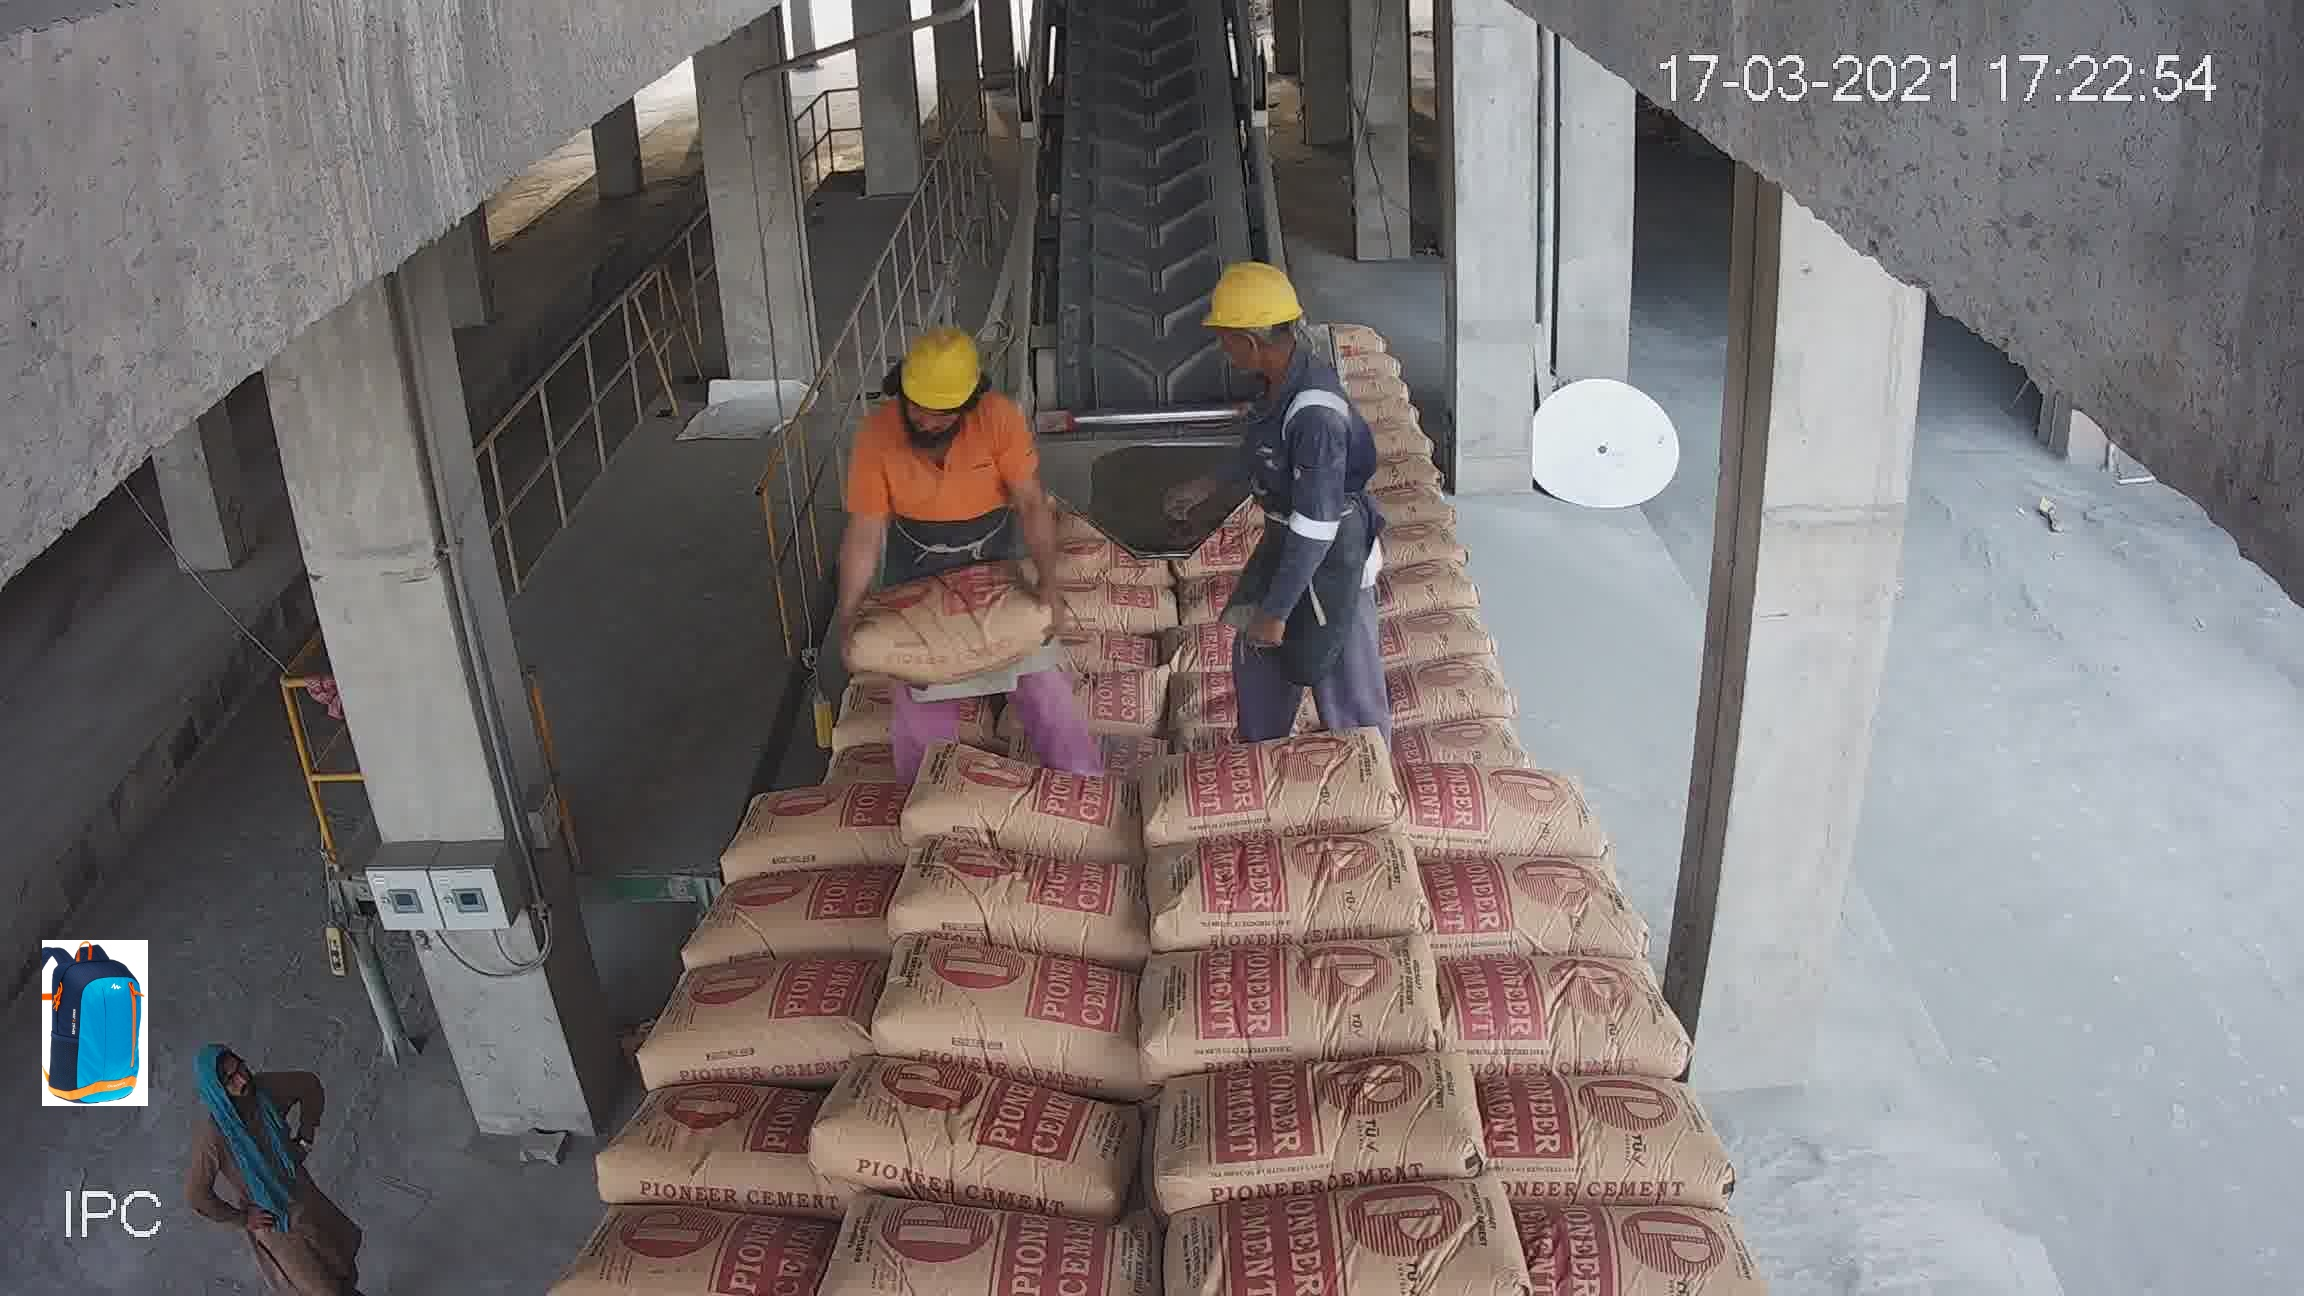bag: (1119, 377, 1211, 521), (1090, 101, 1203, 209)
bag_h: (1147, 1036, 1487, 1212), (1136, 921, 1457, 1067), (1176, 1163, 1524, 1296), (582, 1071, 824, 1218), (804, 1082, 1152, 1182), (1127, 709, 1412, 831), (1138, 836, 1396, 957), (1491, 1071, 1742, 1188), (635, 954, 877, 1074), (880, 957, 1135, 1070), (812, 1207, 1161, 1287), (892, 840, 1152, 942), (1124, 658, 1388, 748), (1516, 1203, 1771, 1296), (1457, 951, 1674, 1060), (885, 766, 1138, 851), (687, 866, 916, 959), (1168, 578, 1385, 676), (538, 1214, 801, 1294), (923, 674, 1158, 756), (1419, 764, 1597, 872), (764, 628, 968, 722), (706, 790, 916, 878), (959, 604, 1192, 684), (737, 711, 938, 794), (1389, 685, 1590, 764), (1454, 866, 1625, 948), (1388, 612, 1532, 701), (1329, 479, 1483, 532), (1304, 416, 1446, 467), (1347, 521, 1473, 571), (1378, 554, 1478, 614), (1320, 457, 1435, 506), (870, 584, 983, 631), (888, 541, 987, 590), (1312, 351, 1407, 400), (900, 495, 978, 544), (1317, 392, 1423, 421)
belt: (1021, 21, 1253, 418)
